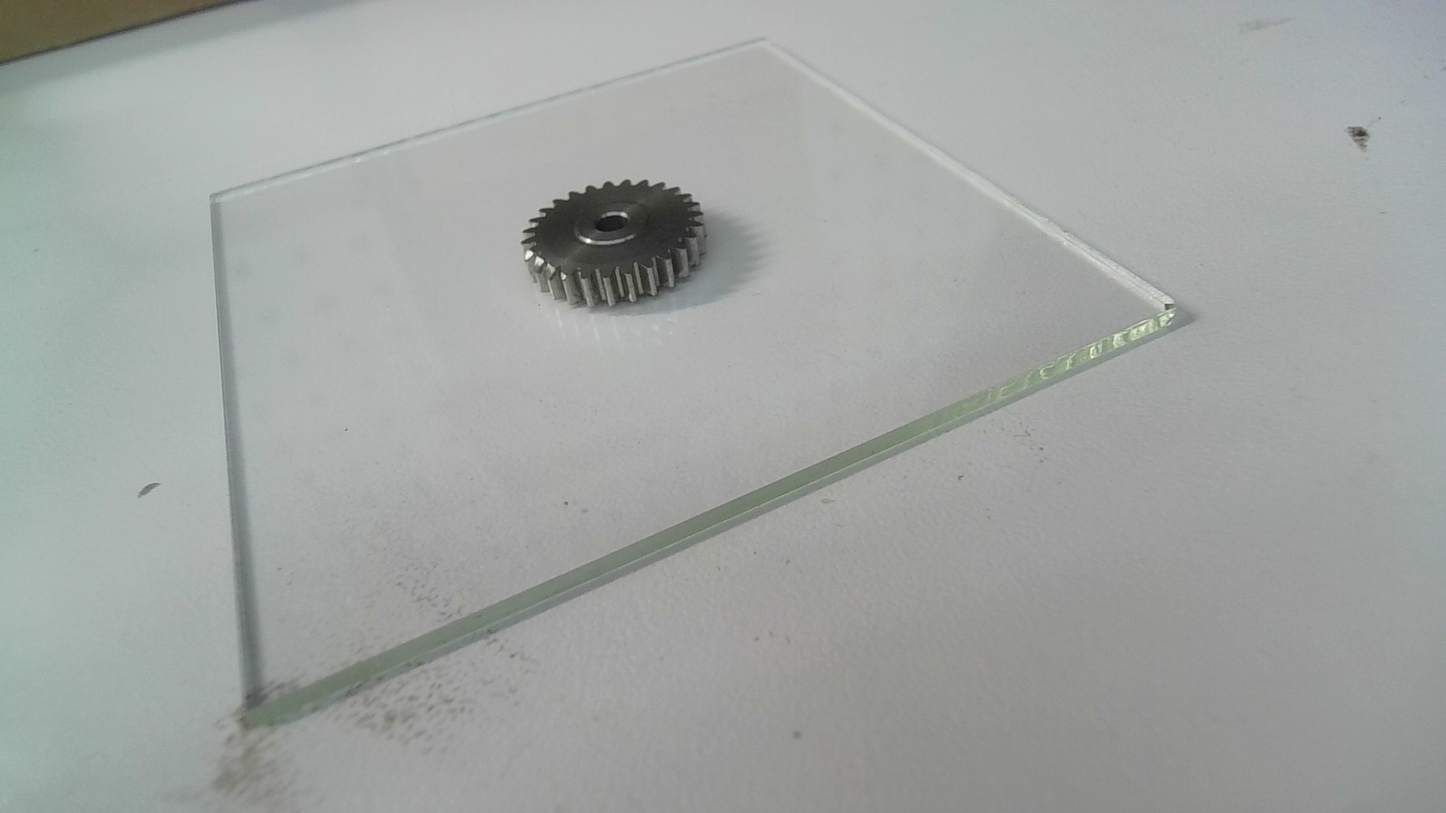gear: (521, 175, 711, 309)
